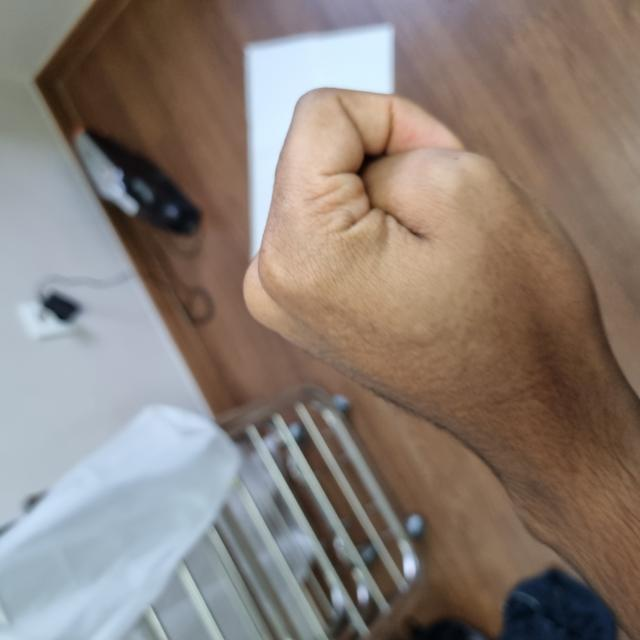Rock: (9, 107, 639, 639)
